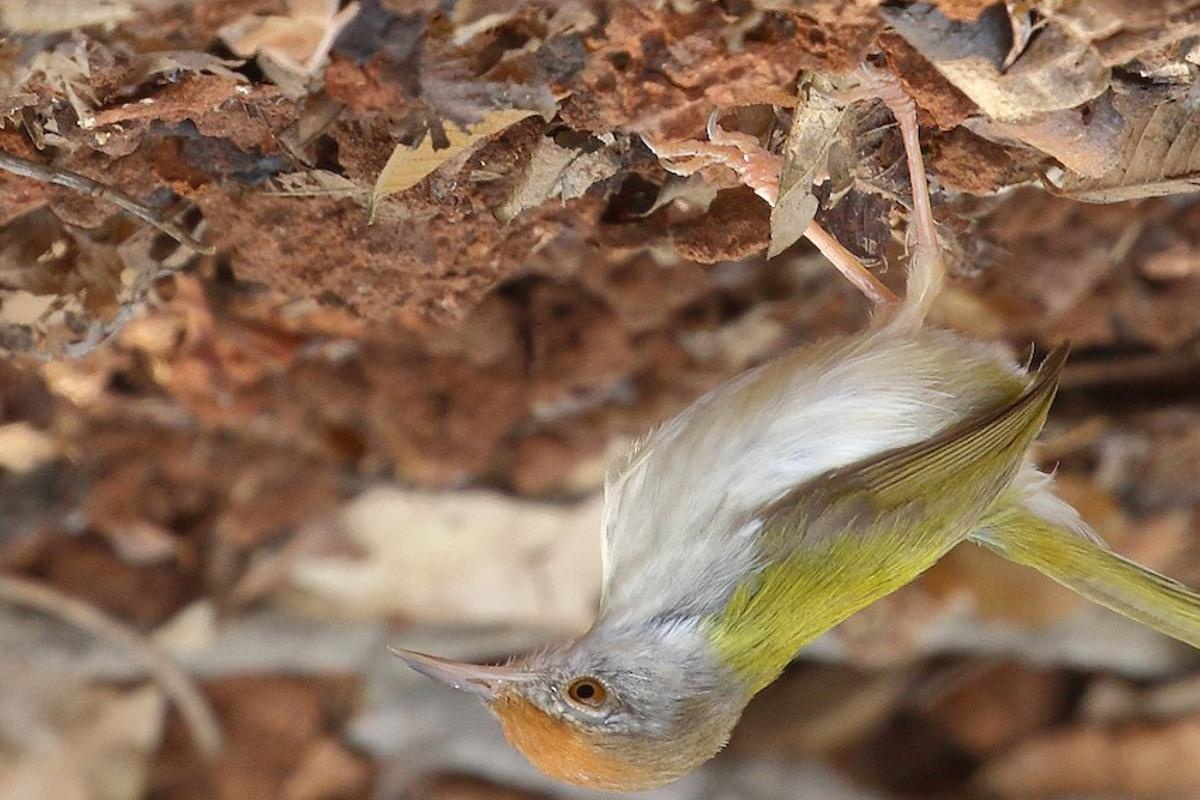tailorbird: (450, 315, 1167, 770)
